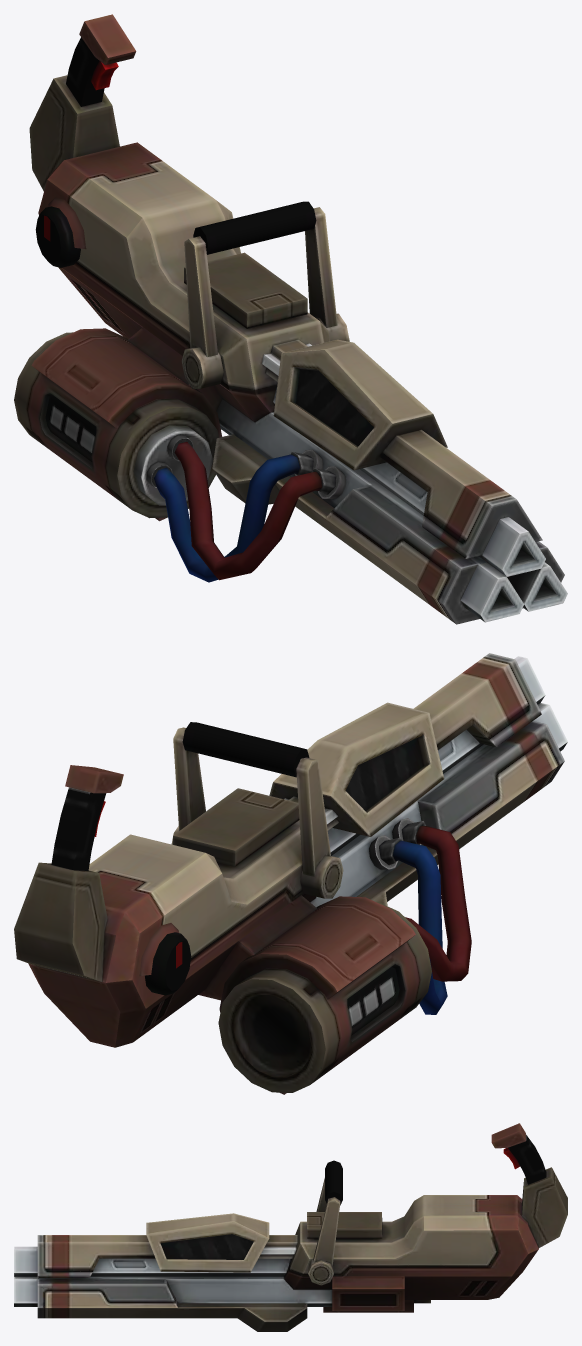
Rendered from SM_Weapon_Jagger_Machinegun.glb.
The picture shows the model from 3 angles, top to bottom: view 1: azimuth 30°, elevation 25°; view 2: azimuth 150°, elevation 25°; view 3: azimuth 270°, elevation 25°; orthographic projection. The views are drawn at different scales.
Parts seen in each view (by area): view 1: SM_Weapon_Jagger_Machinegun; view 2: SM_Weapon_Jagger_Machinegun; view 3: SM_Weapon_Jagger_Machinegun.
Part boxes in pixels (x1,y1,x2,y2): SM_Weapon_Jagger_Machinegun: [14, 14, 567, 624]; SM_Weapon_Jagger_Machinegun: [14, 653, 567, 1094]; SM_Weapon_Jagger_Machinegun: [14, 1123, 567, 1331].
Bounding box in the file's own units: 0.4407 × 0.6449 × 1.48.
1 material, 1 textured.
